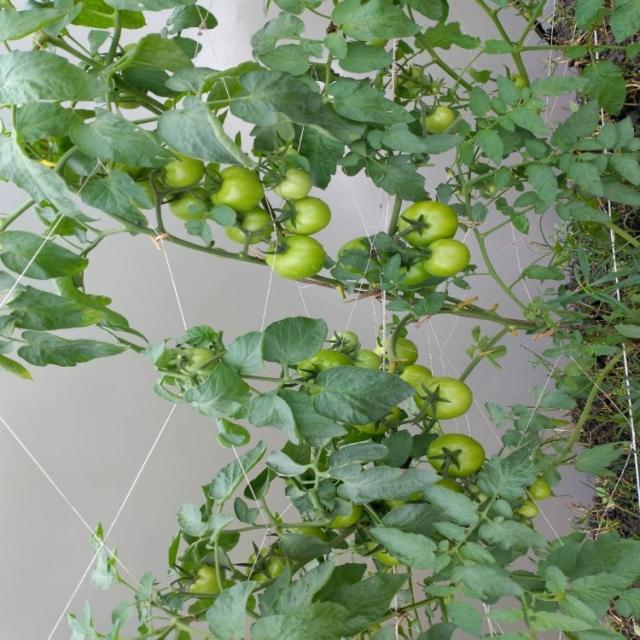tomato: (267, 223, 334, 290), (424, 435, 491, 493), (418, 228, 482, 279), (211, 162, 265, 220), (399, 198, 459, 249), (296, 346, 352, 395), (276, 188, 336, 227), (155, 152, 211, 193), (424, 372, 471, 419), (233, 201, 277, 247), (175, 562, 219, 604), (392, 252, 436, 292), (242, 543, 281, 587), (162, 181, 201, 224), (375, 331, 421, 367), (271, 162, 311, 200), (414, 99, 461, 131), (400, 350, 431, 390), (529, 471, 556, 497), (334, 331, 359, 359), (516, 497, 537, 524)
